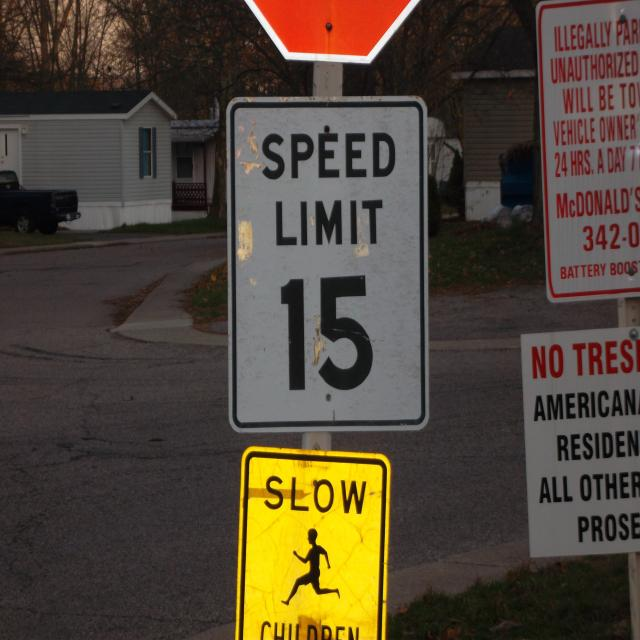regulatory: (223, 90, 429, 435), (539, 0, 640, 310)
stop: (244, 0, 421, 66)
warning: (231, 444, 391, 640)
